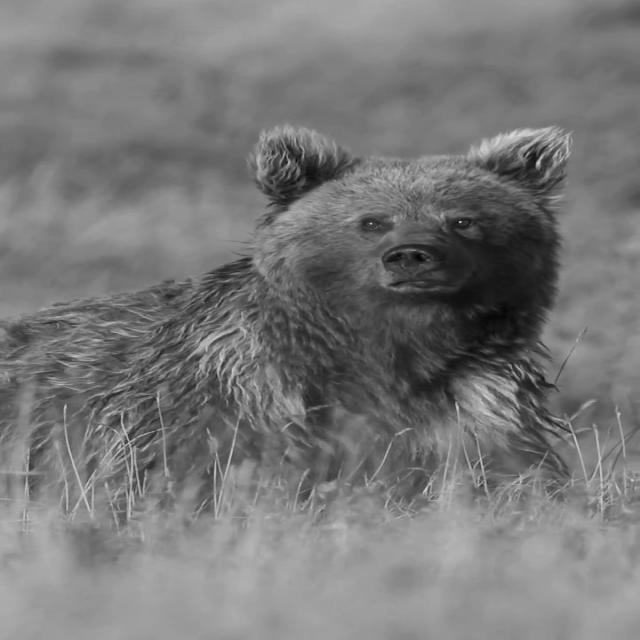Bear: (0, 122, 580, 534)
